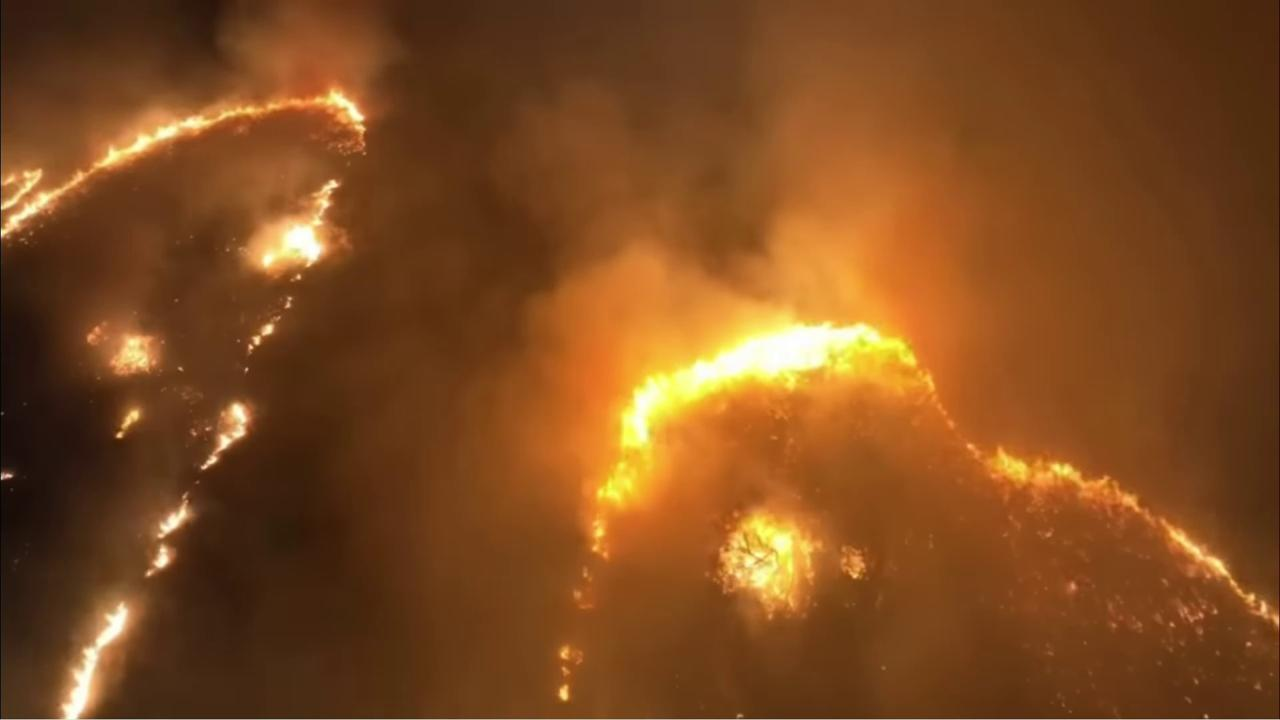fire: (554, 318, 1280, 635), (0, 84, 369, 284), (710, 496, 831, 629), (53, 596, 132, 720), (257, 175, 341, 283), (138, 489, 198, 582), (84, 315, 166, 380), (195, 396, 253, 471), (243, 293, 294, 354), (555, 638, 581, 705), (112, 400, 144, 437), (0, 469, 17, 482)
smoke: (0, 0, 1280, 720)
